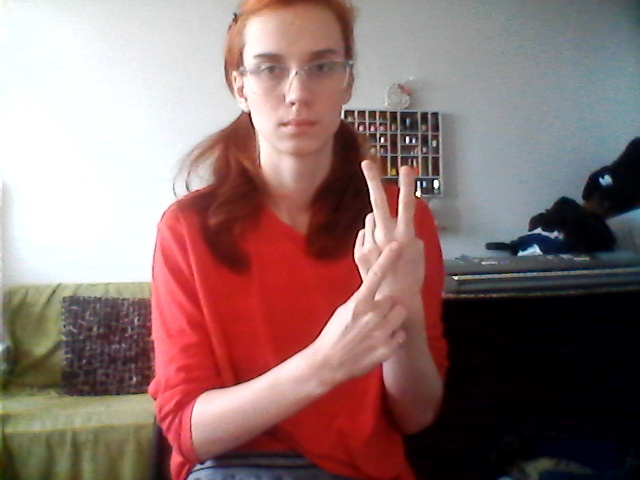y: (302, 153, 440, 382)
